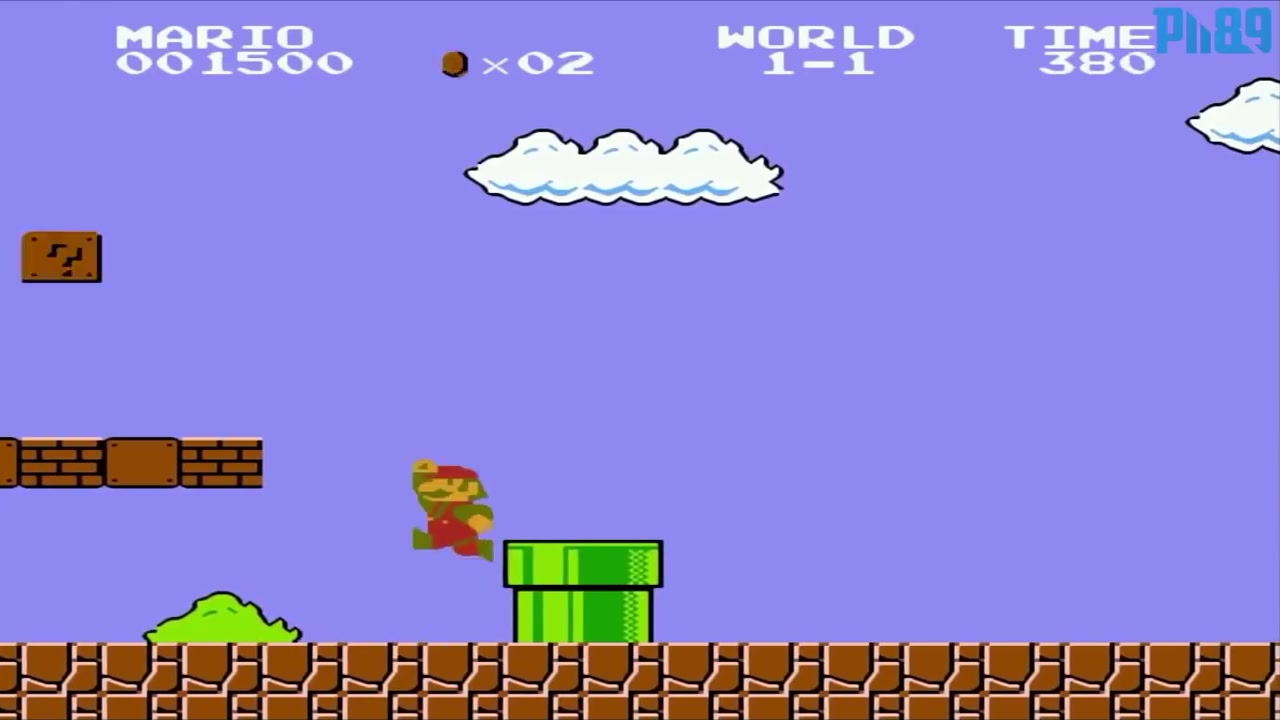mario: (394, 449, 507, 578)
